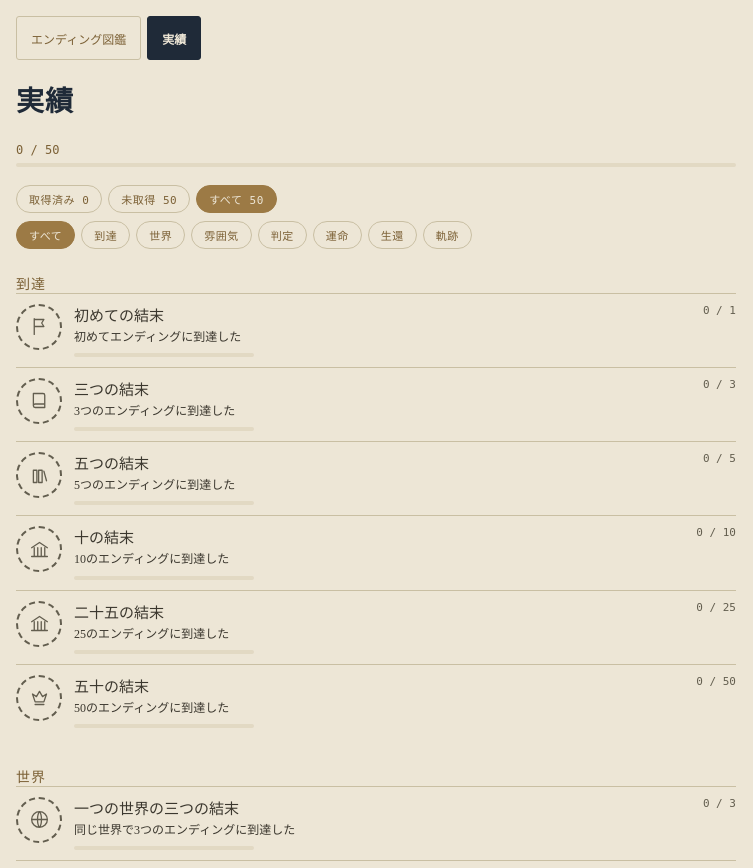
Test: AchievementList › drops the other sections when a category is chosen
The width and height of the screenshot is (753, 868).
Click the button "軌跡": (447, 235) [423,221,472,249]
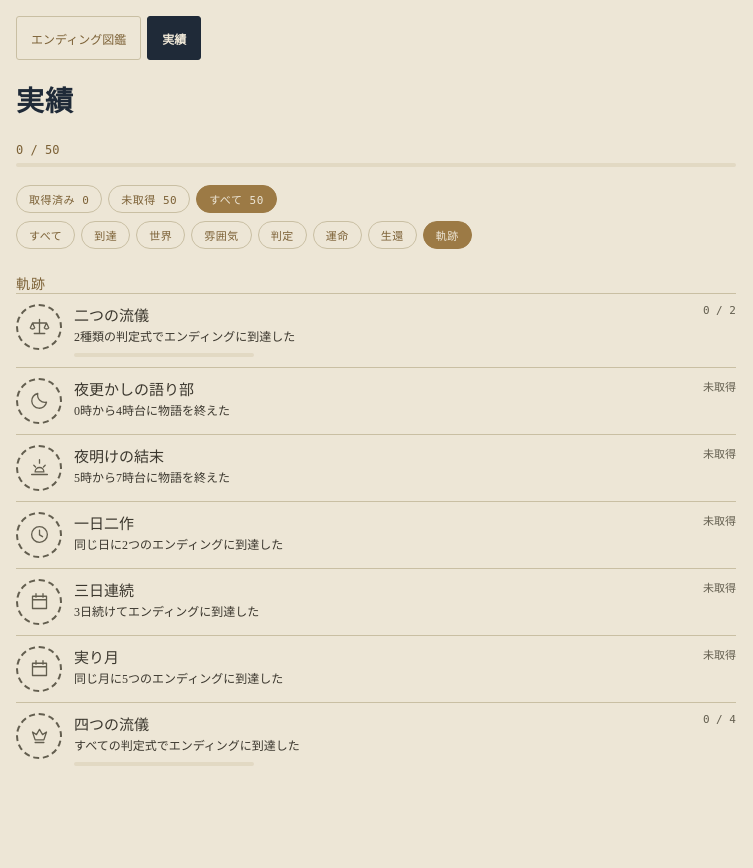
Expected: the text "三日連続" is shown, [74,584,134,601]
Now the text "初めての結末" is gone
